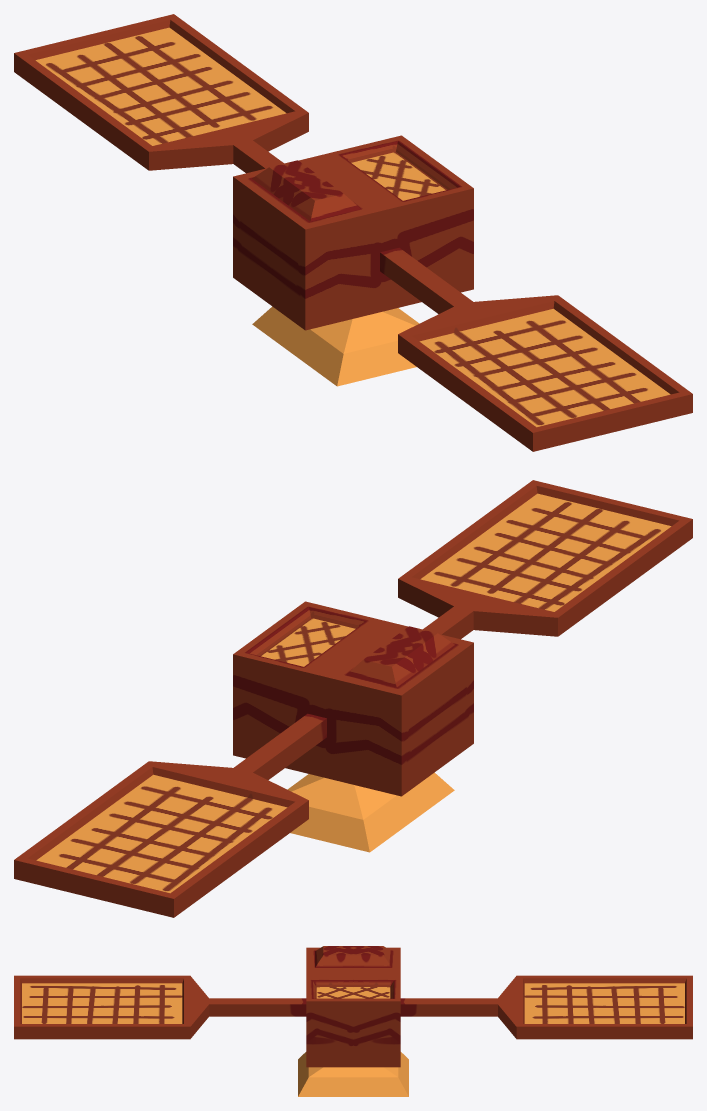
Rendered from satellite01.fbx.
3 renders of one model, top to bottom at view 1: azimuth 30°, elevation 25°; view 2: azimuth 150°, elevation 25°; view 3: azimuth 270°, elevation 25°, orthographic. The views are drawn at different scales.
Parts seen in each view (by area): view 1: satellite; view 2: satellite; view 3: satellite.
Boxes of the visible parts, x1,y1,x2,y2 form: satellite: (14,14,692,451); satellite: (14,480,692,917); satellite: (14,946,692,1096).
Bounding box in the file's own units: 200 × 195 × 1066.
